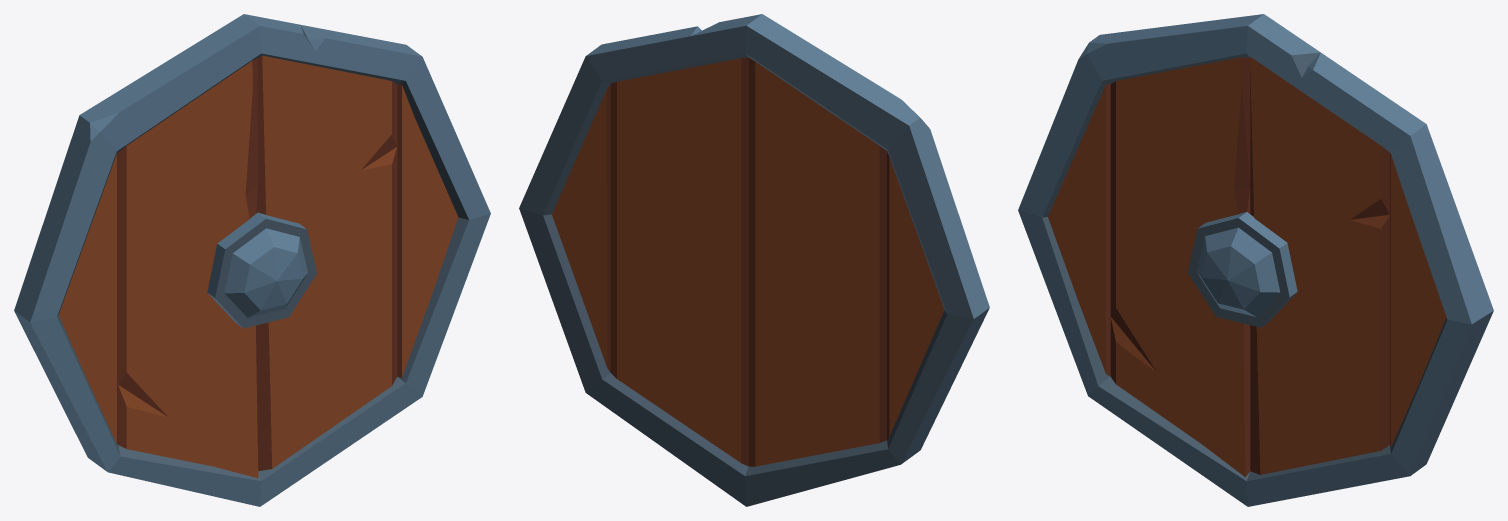
File: SM_RoundShield_A.fbx
The picture shows the model from 3 angles, left to right: view 1: azimuth 30°, elevation 25°; view 2: azimuth 150°, elevation 25°; view 3: azimuth 330°, elevation 25°; orthographic projection.
Parts seen in each view (by area): view 1: SM_RoundShield_A; view 2: SM_RoundShield_A; view 3: SM_RoundShield_A.
Boxes of the visible parts, box(x1,y1,x2,y2) form: SM_RoundShield_A: box(14, 14, 490, 506); SM_RoundShield_A: box(519, 14, 989, 506); SM_RoundShield_A: box(1018, 14, 1493, 506).
Size of the model in its own units: 0.8689 by 0.8784 by 0.1181.
